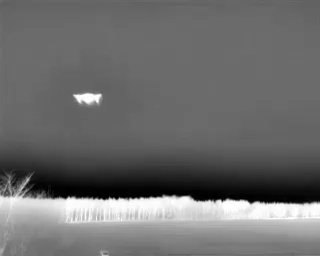DRONE: (68, 87, 106, 111)
